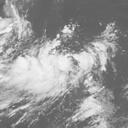cyclone: (14, 43, 82, 96)
